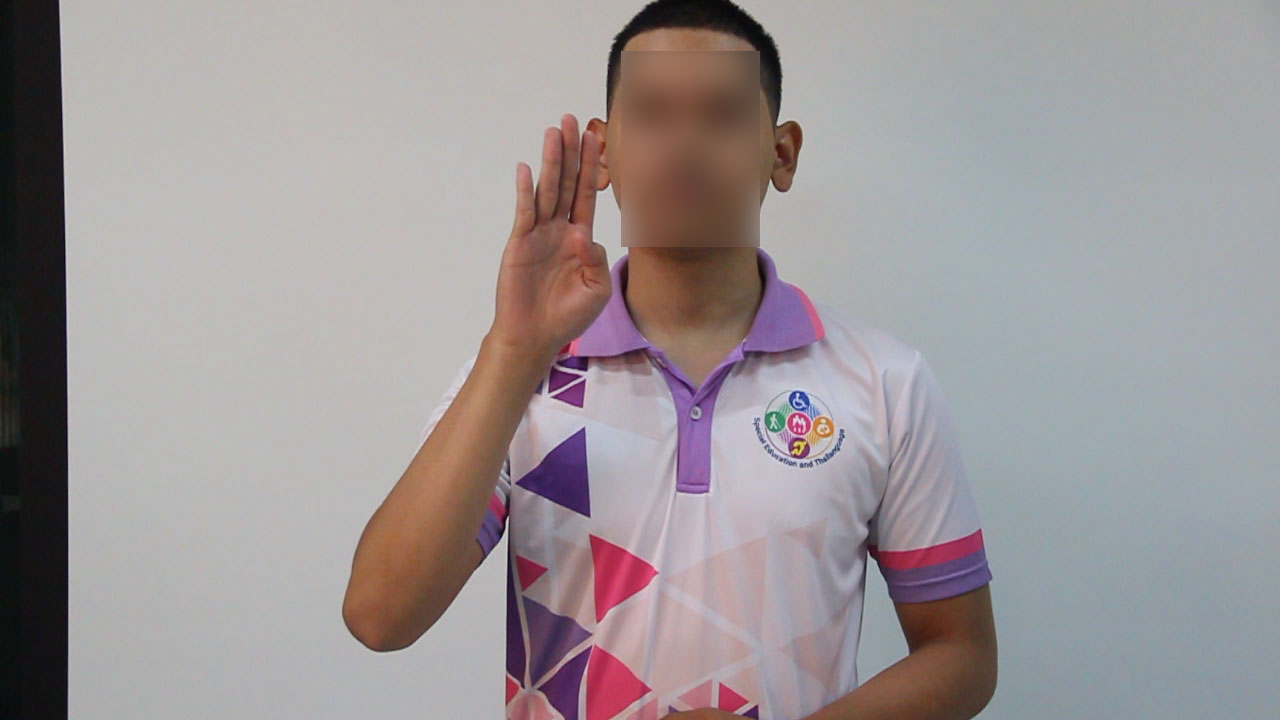bor: (491, 98, 621, 382)
